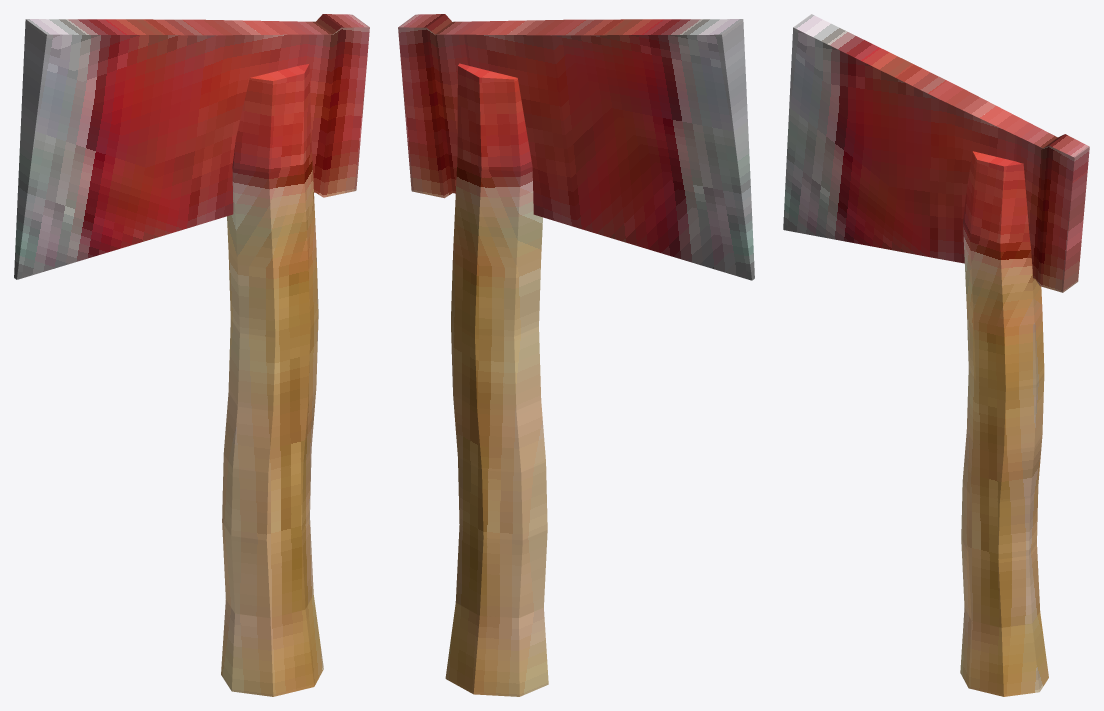
Rendered from machado_no_estilo_de_ps1.glb.
The picture shows the model from 3 angles, left to right: view 1: azimuth 30°, elevation 25°; view 2: azimuth 150°, elevation 25°; view 3: azimuth 330°, elevation 25°; orthographic projection. The views are drawn at different scales.
Visible parts, largest first — view 1: Object_2; view 2: Object_2; view 3: Object_2.
Boxes of the visible parts, left/top/right/bottom form: Object_2: left=14, top=14, right=369, bottom=696; Object_2: left=398, top=14, right=754, bottom=696; Object_2: left=783, top=14, right=1089, bottom=696.
Size of the model in its own units: 8.57 by 16.73 by 1.92.
1 material, 1 textured.
